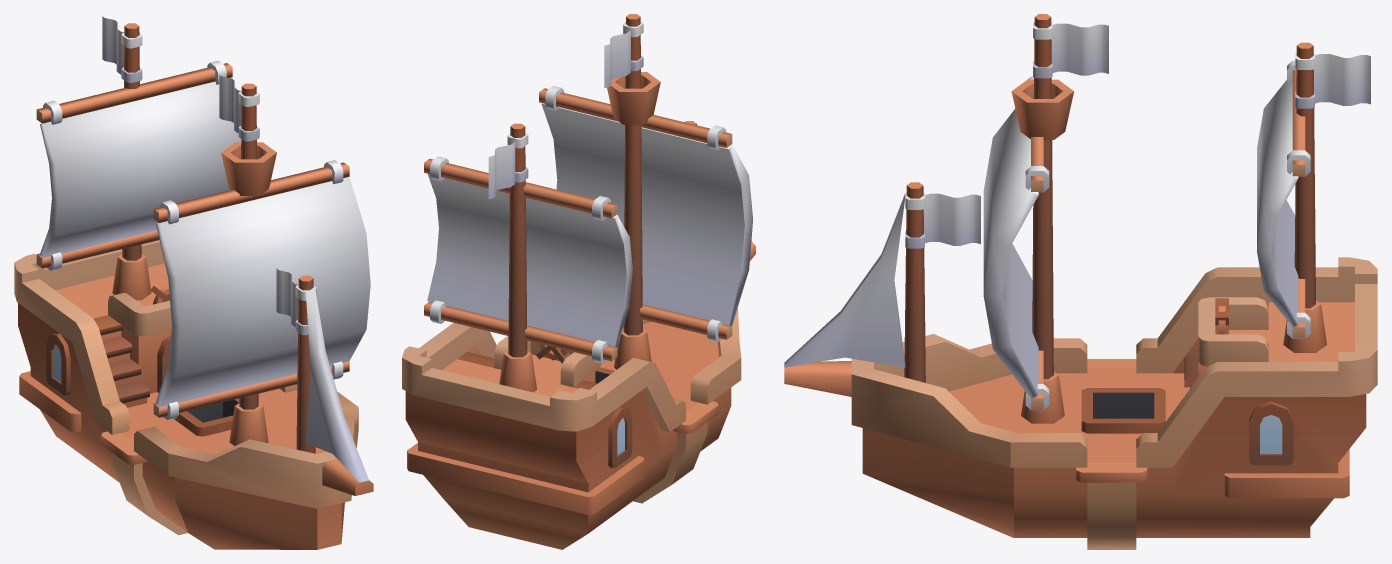
The model's file is ship-small-transformed-transformed.glb.
3 views of the same model, side by side, from view 1: azimuth 30°, elevation 25°; view 2: azimuth 150°, elevation 25°; view 3: azimuth 270°, elevation 25° (orthographic). The views are drawn at different scales.
Visible parts, largest first — view 1: ship-small, sail-a, sail-b, flag-b, flag-c, flag-a; view 2: ship-small, sail-a, sail-b, flag-c, flag-b; view 3: ship-small, sail-a, sail-b, flag-b, flag-a, flag-c.
Part boxes in pixels (left/top/right/bottom): ship-small: left=14, top=23, right=373, bottom=549; sail-a: left=153, top=160, right=370, bottom=419; sail-b: left=36, top=60, right=241, bottom=270; flag-b: left=219, top=73, right=259, bottom=141; flag-c: left=102, top=16, right=142, bottom=82; flag-a: left=276, top=268, right=316, bottom=335; ship-small: left=402, top=14, right=755, bottom=549; sail-a: left=539, top=86, right=753, bottom=341; sail-b: left=424, top=156, right=632, bottom=363; flag-c: left=488, top=133, right=528, bottom=199; flag-b: left=604, top=21, right=643, bottom=87; ship-small: left=784, top=14, right=1377, bottom=549; sail-a: left=983, top=76, right=1049, bottom=410; sail-b: left=1257, top=60, right=1310, bottom=338; flag-b: left=1033, top=22, right=1108, bottom=78; flag-a: left=905, top=192, right=980, bottom=248; flag-c: left=1295, top=52, right=1370, bottom=108.
Bounding box in the file's own units: 4.8 × 9.96 × 10.6.
1 material, 1 textured.
